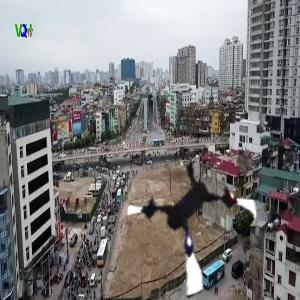drone: (119, 153, 266, 300)
